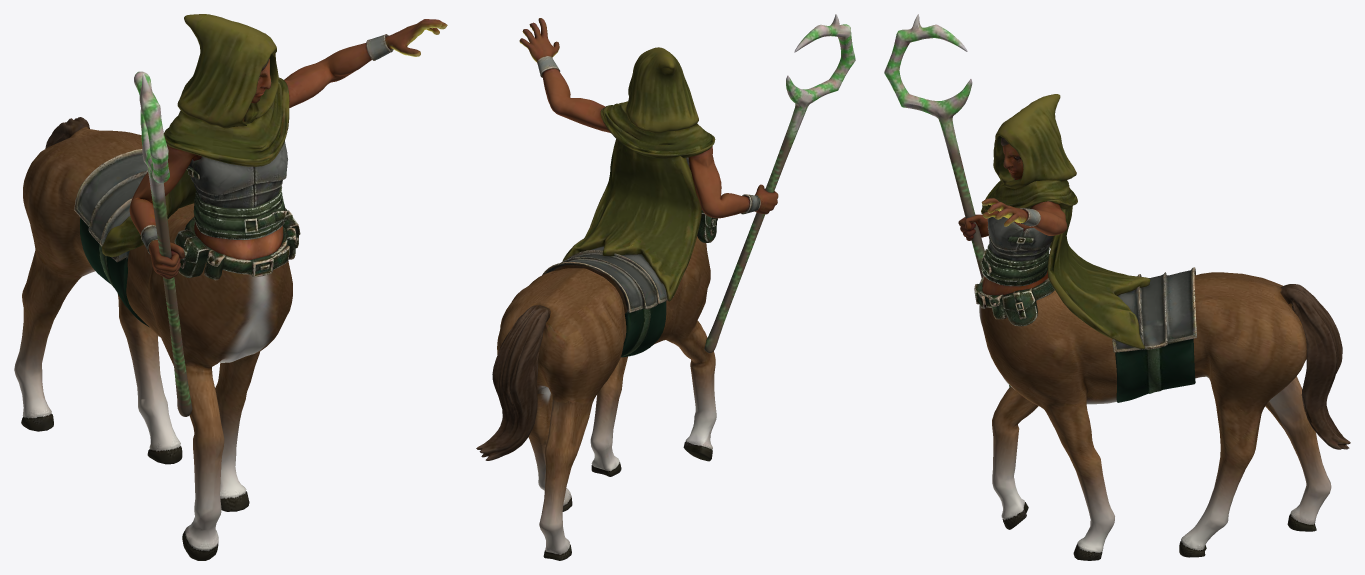
The model's file is MZ4250 - Centaur Warden Female_2025_1.glb.
3 renders of one model, left to right at view 1: azimuth 30°, elevation 25°; view 2: azimuth 150°, elevation 25°; view 3: azimuth 270°, elevation 25°, orthographic. The views are drawn at different scales.
Parts seen in each view (by area): view 1: Centaur Female Warden 2025.001; view 2: Centaur Female Warden 2025.001; view 3: Centaur Female Warden 2025.001.
Boxes of the visible parts, bbox=[...] form: Centaur Female Warden 2025.001: bbox=[14, 14, 447, 560]; Centaur Female Warden 2025.001: bbox=[476, 14, 855, 560]; Centaur Female Warden 2025.001: bbox=[884, 14, 1350, 560].
Size of the model in its own units: 38.59 by 56.87 by 51.54.
Materials: 1 (1 with a texture image).
